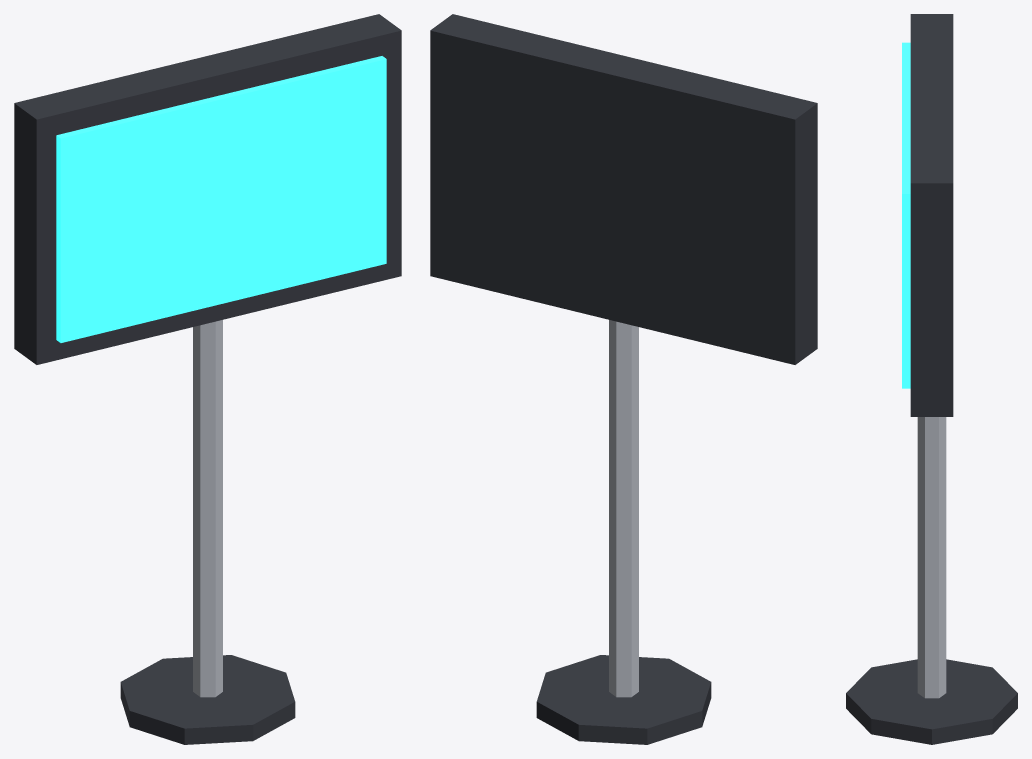
The model's file is score_screen.glb.
3 views of the same model, side by side, from view 1: azimuth 30°, elevation 25°; view 2: azimuth 150°, elevation 25°; view 3: azimuth 270°, elevation 25° (orthographic). The views are drawn at different scales.
Parts seen in each view (by area): view 1: score_screen; view 2: score_screen; view 3: score_screen.
Boxes of the visible parts, x1,y1,x2,y2 form: score_screen: [14, 14, 401, 744]; score_screen: [430, 14, 817, 744]; score_screen: [846, 14, 1017, 744].
Bounding box in the file's own units: 1.4 × 2.35 × 0.6.
